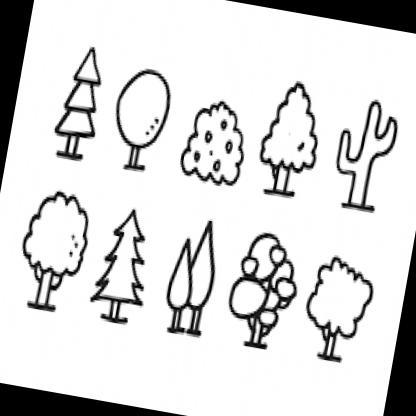crown_cloud: (300, 248, 380, 342), (18, 184, 96, 280)
crown_dizzy: (224, 227, 308, 333)
crown_mushroom: (107, 63, 176, 152)
trunk_straight: (30, 270, 56, 304), (317, 335, 341, 355)
